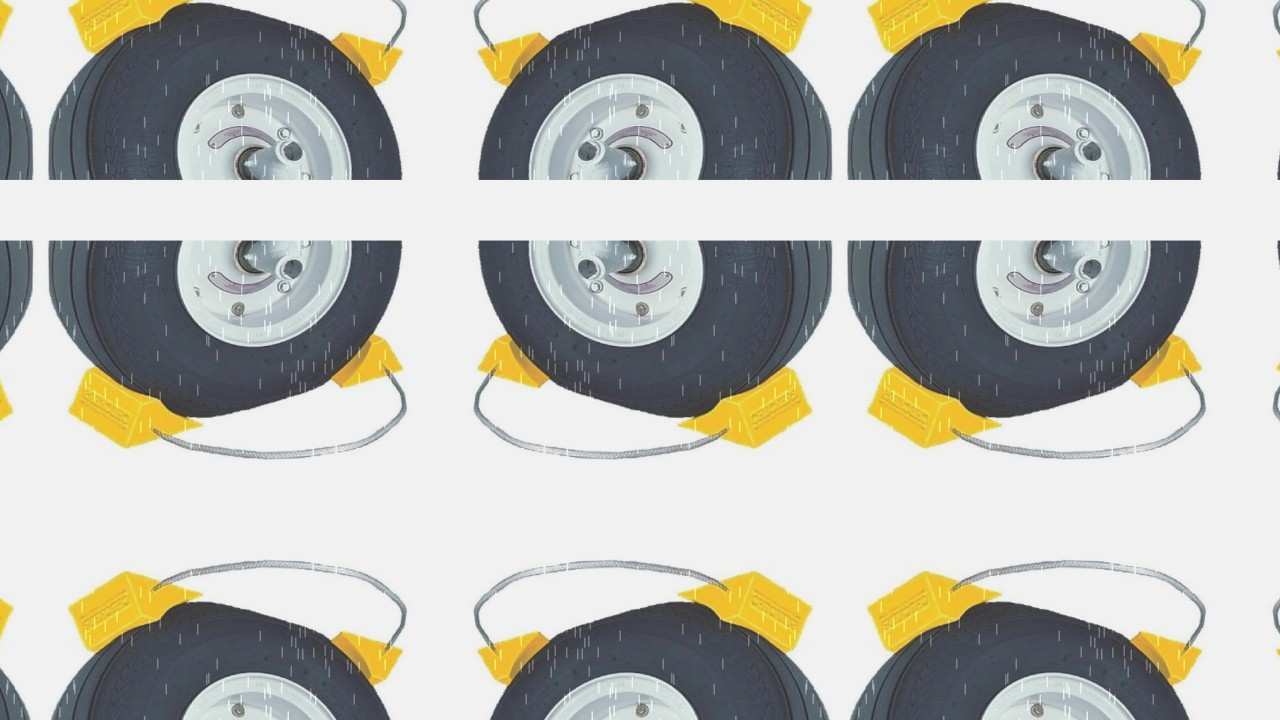chock: (66, 364, 205, 451), (675, 364, 814, 451), (866, 364, 1005, 451), (66, 569, 205, 656), (675, 569, 814, 656), (866, 569, 1005, 656), (66, 0, 205, 56), (675, 0, 814, 56), (866, 0, 1005, 56), (313, 31, 406, 93), (474, 31, 567, 93), (1113, 31, 1206, 93), (313, 327, 406, 389), (474, 327, 567, 389), (1113, 327, 1206, 389), (313, 631, 406, 693), (474, 631, 567, 693), (1113, 631, 1206, 693)
wheel: (46, 242, 428, 424), (452, 242, 834, 424), (846, 242, 1228, 424), (46, 0, 428, 178), (452, 0, 834, 178), (846, 0, 1228, 178), (46, 596, 428, 720), (452, 596, 834, 720), (846, 596, 1228, 720)
